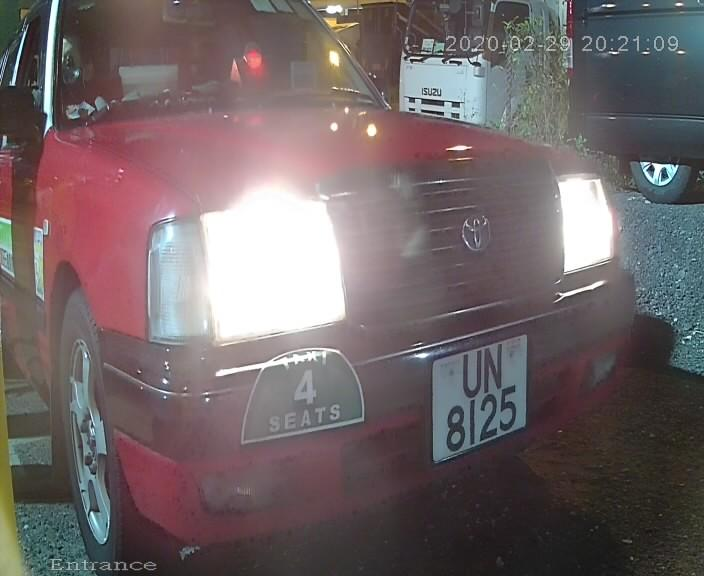Car: (7, 1, 639, 543)
License Plate: (419, 324, 538, 471)
